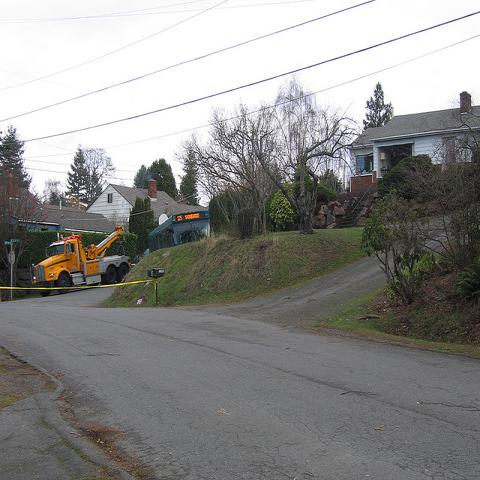bus: (146, 210, 208, 253)
truck: (36, 224, 130, 294)
